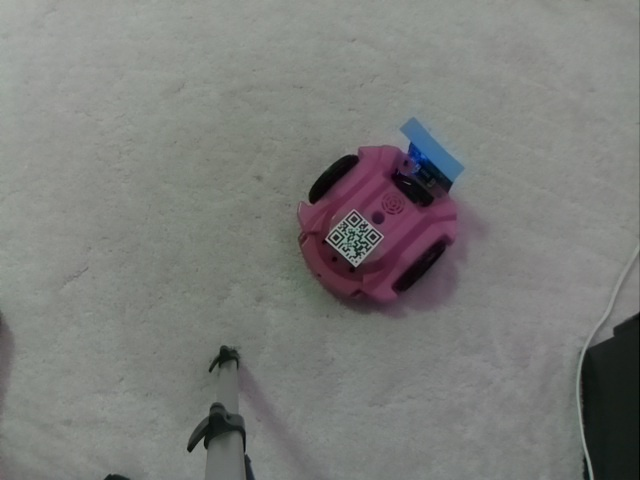chassis: (292, 123, 462, 308)
qr: (324, 205, 384, 269)
